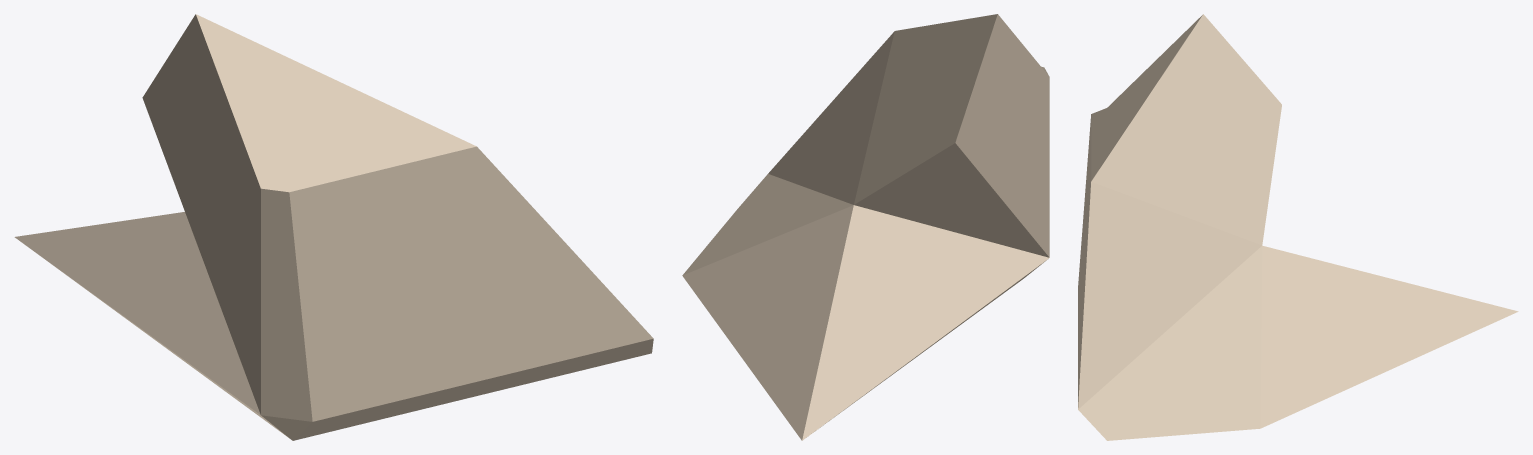
Rendered from Wall_Crumbel_004.fbx.
The picture shows the model from 3 angles, left to right: view 1: azimuth 30°, elevation 25°; view 2: azimuth 150°, elevation 25°; view 3: azimuth 270°, elevation 25°; orthographic projection. The views are drawn at different scales.
Visible parts, largest first — view 1: Wall_Crumble_004; view 2: Wall_Crumble_004; view 3: Wall_Crumble_004.
Boxes of the visible parts, left/top/right/bottom form: Wall_Crumble_004: left=14, top=14, right=653, bottom=440; Wall_Crumble_004: left=682, top=14, right=1049, bottom=440; Wall_Crumble_004: left=1078, top=14, right=1518, bottom=440.
Size of the model in its own units: 0.2289 by 0.2165 by 0.3025.
